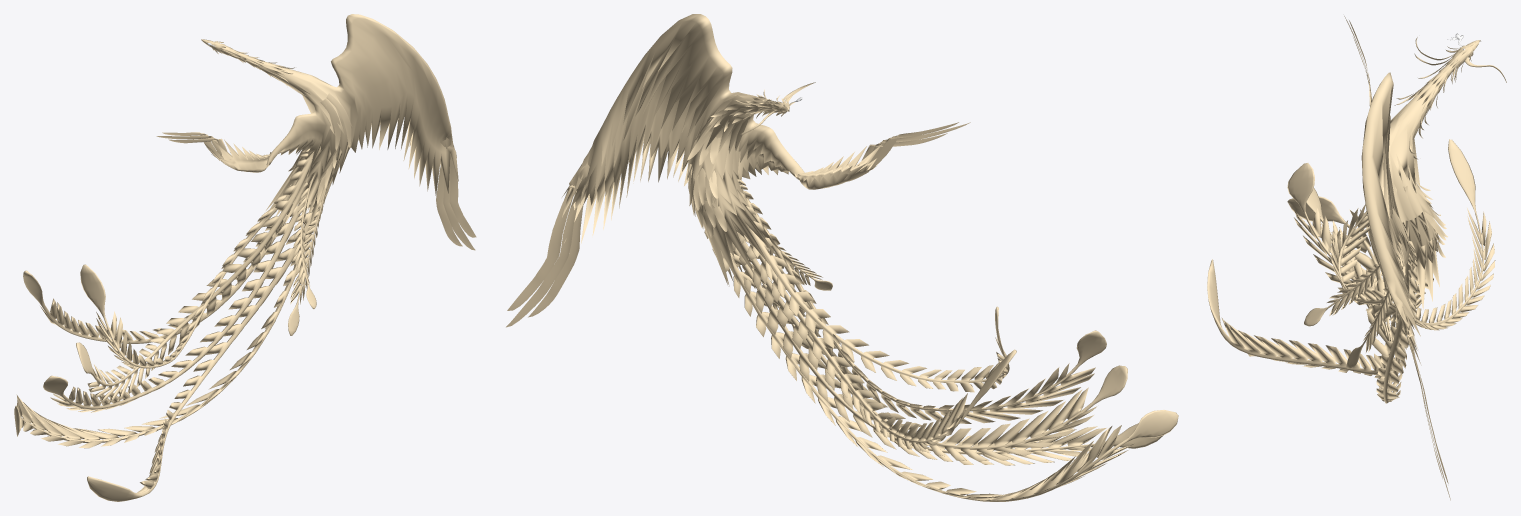
3 renders of one model, left to right at view 1: azimuth 30°, elevation 25°; view 2: azimuth 150°, elevation 25°; view 3: azimuth 270°, elevation 25°, orthographic. The views are drawn at different scales.
Visible parts, largest first — view 1: body, wei10, wei05, wei07, wei06, wei09, wei08, wei12, wei11; view 2: body, wei05, wei07, wei10, wei06, wei08, wei09; view 3: body, wei06, wei05, wei08, wei10, wei09, wei11, wei12, wei07.
Part boxes in pixels (<box>): body: <box>156,14,476,250</box>; wei10: <box>76,148,313,402</box>; wei05: <box>14,179,332,448</box>; wei07: <box>43,194,306,412</box>; wei06: <box>87,177,332,501</box>; wei09: <box>80,158,312,368</box>; wei08: <box>23,200,294,343</box>; wei12: <box>288,185,328,335</box>; wei11: <box>293,173,316,309</box>; body: <box>506,14,970,327</box>; wei05: <box>704,230,1178,501</box>; wei07: <box>732,232,1127,461</box>; wei10: <box>737,179,1106,423</box>; wei06: <box>733,248,1163,465</box>; wei08: <box>738,233,1016,450</box>; wei09: <box>744,206,1009,392</box>; body: <box>1344,16,1506,500</box>; wei06: <box>1207,245,1414,379</box>; wei05: <box>1287,196,1417,403</box>; wei08: <box>1410,139,1495,330</box>; wei10: <box>1287,163,1421,321</box>; wei09: <box>1330,204,1433,306</box>; wei11: <box>1304,262,1382,326</box>; wei12: <box>1346,258,1401,368</box>; wei07: <box>1306,187,1397,346</box>.
Bounding box in the file's own units: 1941 × 1307 × 817.
